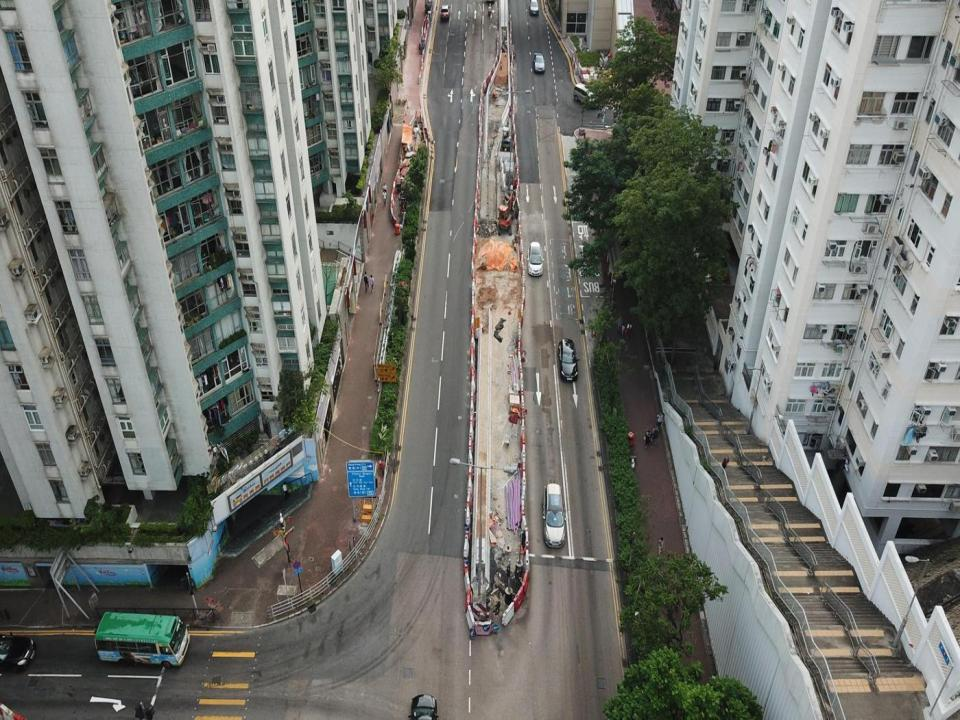bus: (95, 611, 189, 668)
car: (0, 633, 36, 670), (558, 336, 577, 379), (409, 694, 438, 719), (527, 238, 544, 277), (534, 51, 544, 75), (440, 4, 450, 20), (529, 0, 539, 16)
van: (544, 483, 566, 548), (573, 83, 599, 109)
